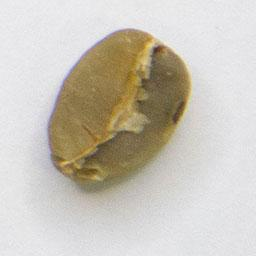premium: (43, 23, 194, 188)
